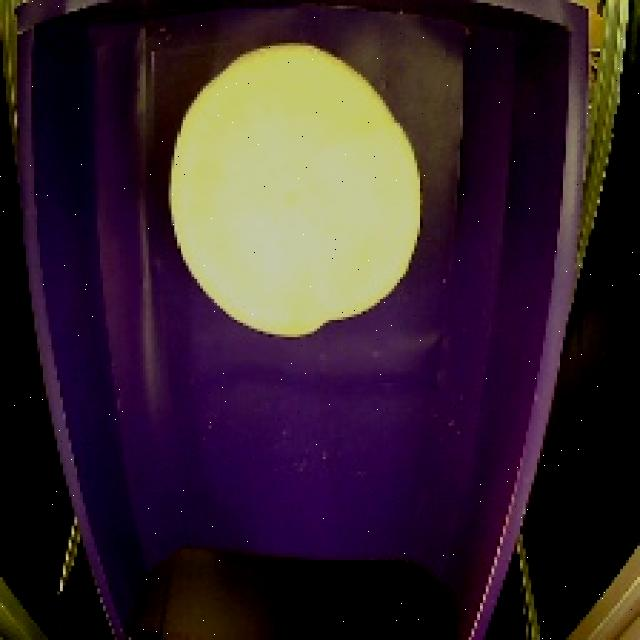white_radish: (162, 33, 431, 347)
